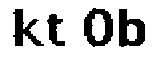0: (81, 2, 116, 48)
b: (117, 5, 148, 51)
k: (9, 4, 44, 49)
t: (46, 13, 70, 48)
